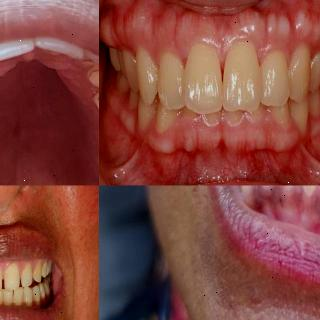Gum Swelling: (113, 11, 320, 48)
calculus: (297, 185, 319, 201), (241, 186, 257, 200), (280, 185, 298, 197)
maligned: (29, 38, 89, 64), (238, 185, 264, 202)
stains: (76, 52, 94, 78), (83, 63, 99, 91), (93, 92, 99, 122), (22, 288, 30, 306), (32, 292, 40, 308), (43, 282, 51, 298), (38, 287, 44, 301)
